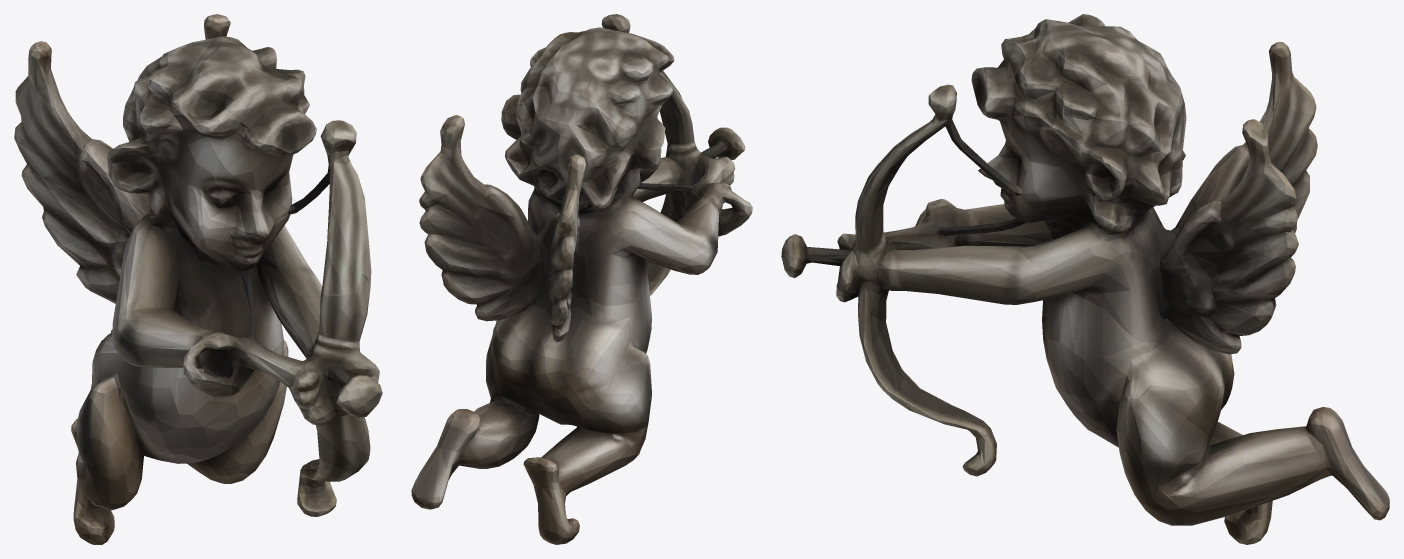
The model's file is cupid.glb.
3 views of the same model, side by side, from view 1: azimuth 30°, elevation 25°; view 2: azimuth 150°, elevation 25°; view 3: azimuth 270°, elevation 25° (orthographic). The views are drawn at different scales.
Parts seen in each view (by area): view 1: world; view 2: world; view 3: world.
Part boxes in pixels (x1,y1,x2,y2): world: [14, 14, 382, 544]; world: [411, 14, 752, 544]; world: [781, 14, 1389, 544].
Bounding box in the file's own units: 0.4193 × 0.9556 × 0.9905.
Materials: 1 (1 with a texture image).
